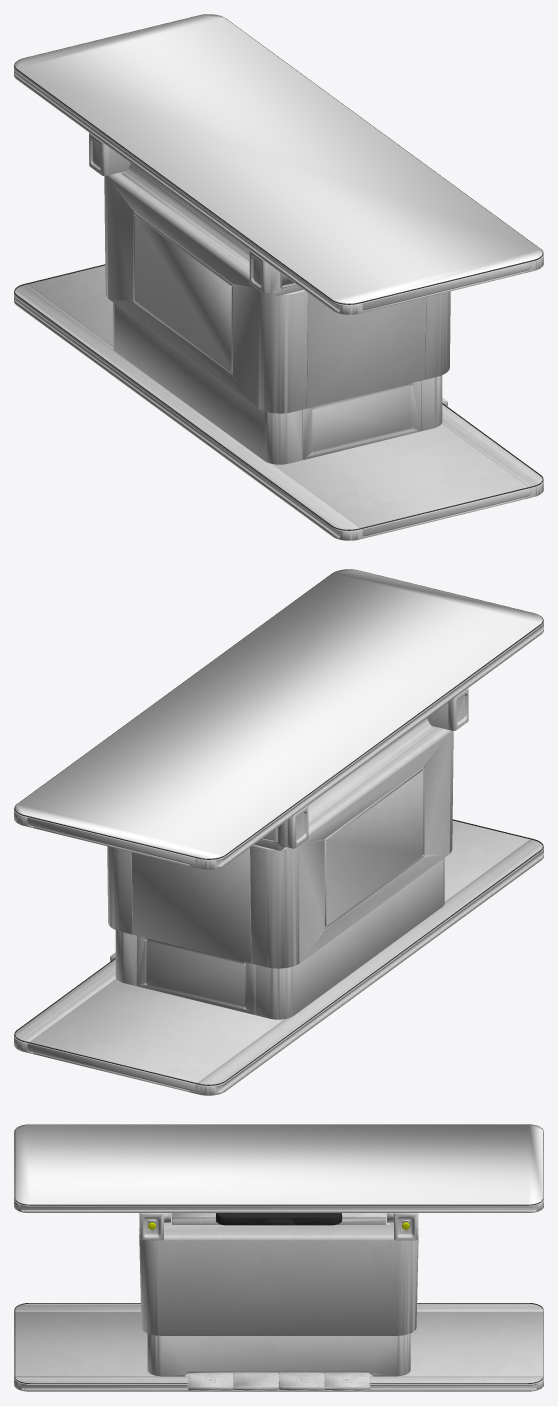
File: Xray_machine_buckyTable_a01.glb
3 views of the same model, one above another, from view 1: azimuth 30°, elevation 25°; view 2: azimuth 150°, elevation 25°; view 3: azimuth 270°, elevation 25° (orthographic). The views are drawn at different scales.
Parts seen in each view (by area): view 1: top_01_mesh_00, base_01_mesh_00, table_01_mesh_00 (×2); view 2: top_01_mesh_00, base_01_mesh_00, table_01_mesh_00 (×2); view 3: base_01_mesh_00, top_01_mesh_00, table_01_mesh_00 (×2), plate_01_mesh_00, pedalButton_01_mesh_00, pedalButton_02_mesh_00, pedalButton_03_mesh_00, pedalButton_04_mesh_00.
Boxes of the visible parts, bbox=[...] form: top_01_mesh_00: bbox=[15, 14, 542, 303]; base_01_mesh_00: bbox=[89, 133, 450, 464]; table_01_mesh_00 (×2): bbox=[14, 14, 543, 540]; top_01_mesh_00: bbox=[15, 569, 542, 858]; base_01_mesh_00: bbox=[107, 688, 468, 1019]; table_01_mesh_00 (×2): bbox=[14, 569, 543, 1095]; base_01_mesh_00: bbox=[139, 1213, 418, 1391]; top_01_mesh_00: bbox=[15, 1124, 542, 1204]; table_01_mesh_00 (×2): bbox=[14, 1124, 543, 1391]; plate_01_mesh_00: bbox=[216, 1213, 341, 1225]; pedalButton_01_mesh_00: bbox=[188, 1372, 233, 1390]; pedalButton_02_mesh_00: bbox=[233, 1372, 278, 1390]; pedalButton_03_mesh_00: bbox=[279, 1372, 324, 1390]; pedalButton_04_mesh_00: bbox=[324, 1372, 369, 1390].
Bounding box in the file's own units: 0.8743 × 0.9439 × 2.35.
Materials: 17 (13 with a texture image).
